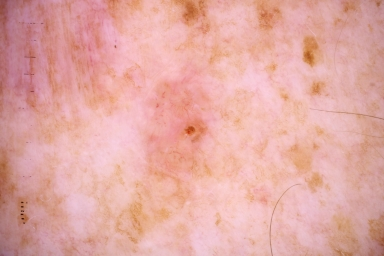nevus: (171, 110, 209, 148)
